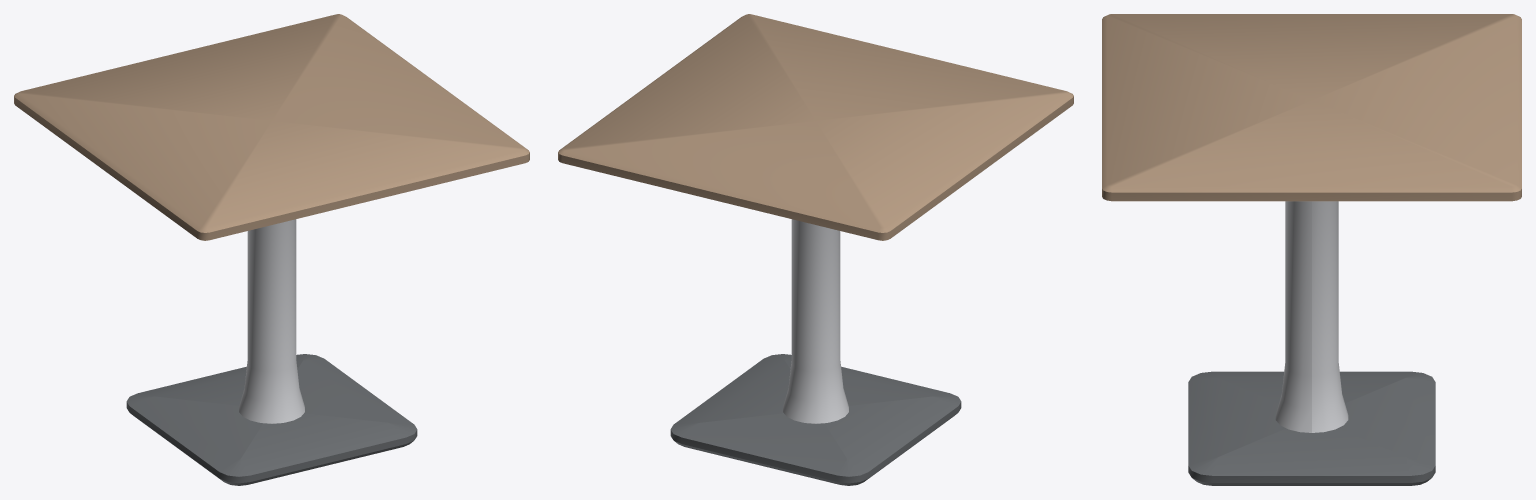
The model's file is hotel-and-resort-operations-restaurant-table-4-cover-0f7acedd__25907.glb.
3 views of the same model, side by side, from view 1: azimuth 30°, elevation 25°; view 2: azimuth 150°, elevation 25°; view 3: azimuth 270°, elevation 25° (orthographic). The views are drawn at different scales.
Parts seen in each view (by area): view 1: restaurant-table-4-cover; view 2: restaurant-table-4-cover; view 3: restaurant-table-4-cover.
Boxes of the visible parts, bbox=[...] form: restaurant-table-4-cover: bbox=[14, 14, 529, 485]; restaurant-table-4-cover: bbox=[558, 14, 1073, 485]; restaurant-table-4-cover: bbox=[1102, 14, 1521, 485].
Size of the model in its own units: 0.85 by 0.75 by 0.85.
